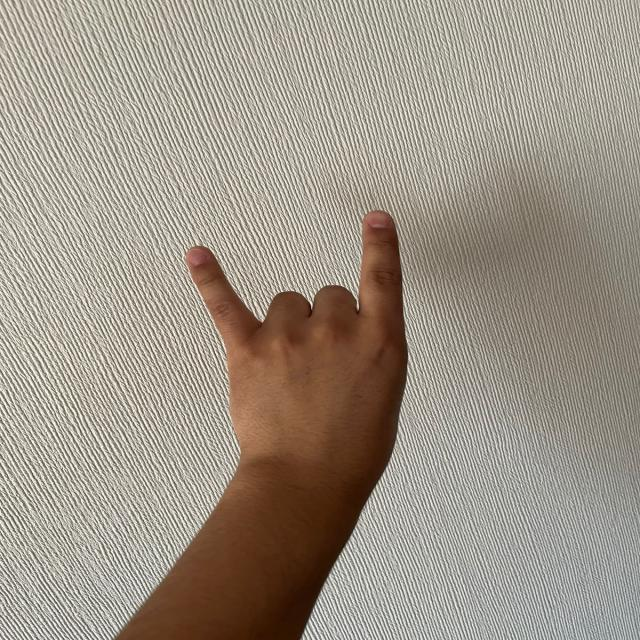U: (178, 206, 426, 465)
